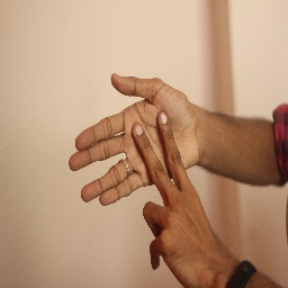N: (65, 69, 211, 262)
